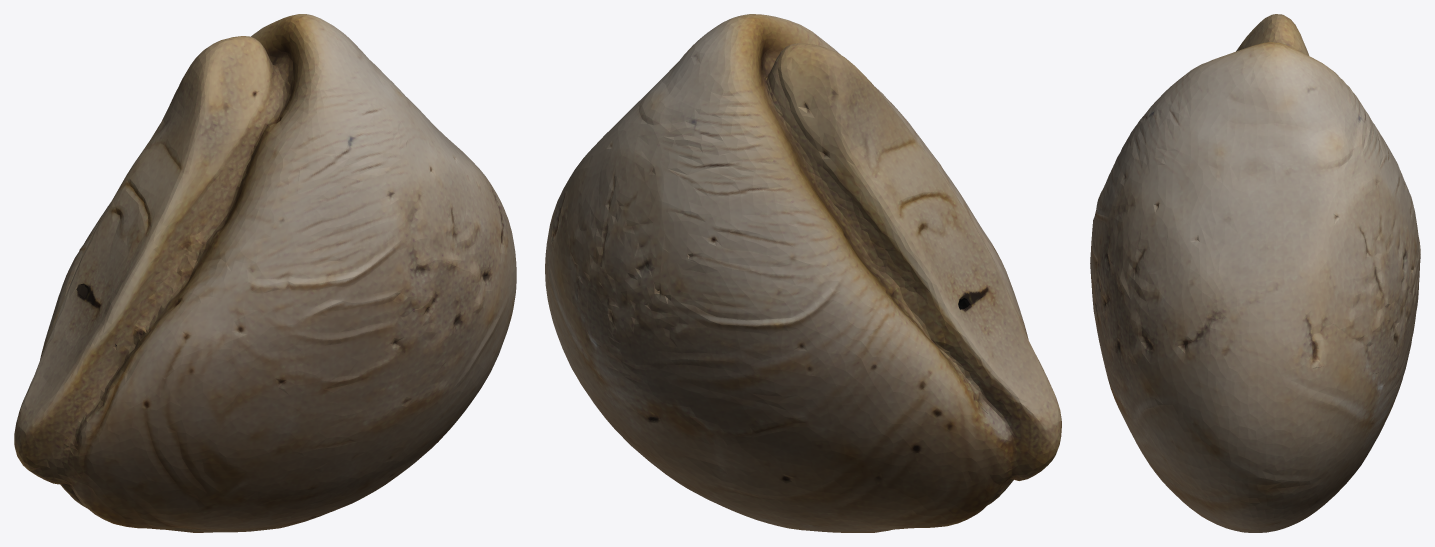
3 renders of one model, left to right at view 1: azimuth 30°, elevation 25°; view 2: azimuth 150°, elevation 25°; view 3: azimuth 270°, elevation 25°, orthographic. The views are drawn at different scales.
Visible parts, largest first — view 1: world; view 2: world; view 3: world.
Part boxes in pixels (<box>): world: <box>14,14,516,532</box>; world: <box>545,14,1061,532</box>; world: <box>1090,14,1420,532</box>.
Size of the model in its own units: 0.045 by 0.0427 by 0.0265.
1 material, 1 textured.
